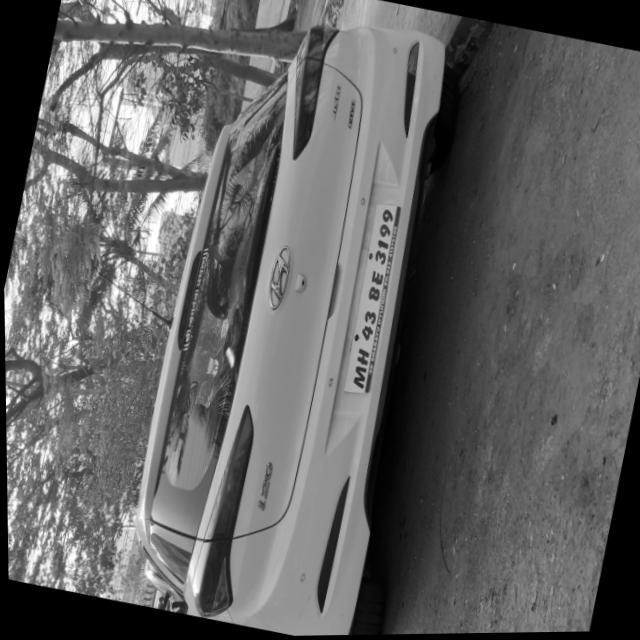car: (3, 263, 324, 633)
